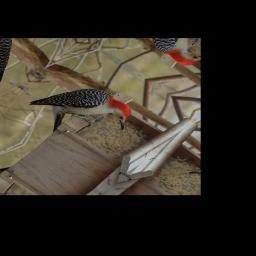Woodpecker: (25, 68, 145, 154)
